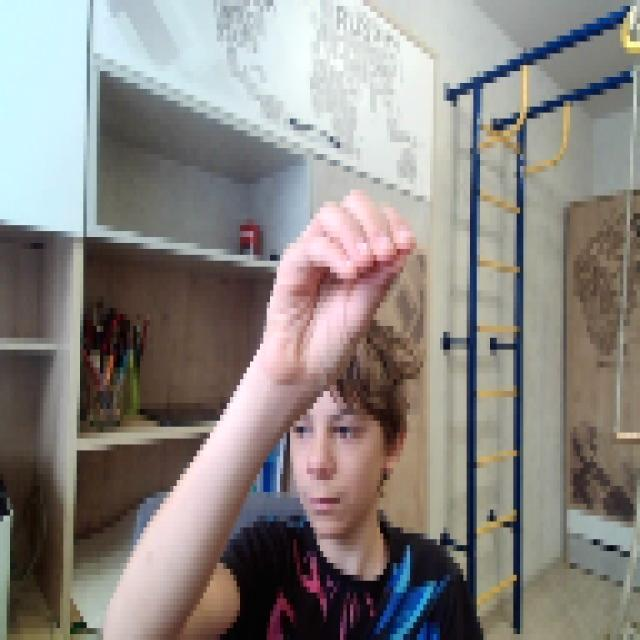left_click: (267, 184, 410, 373)
